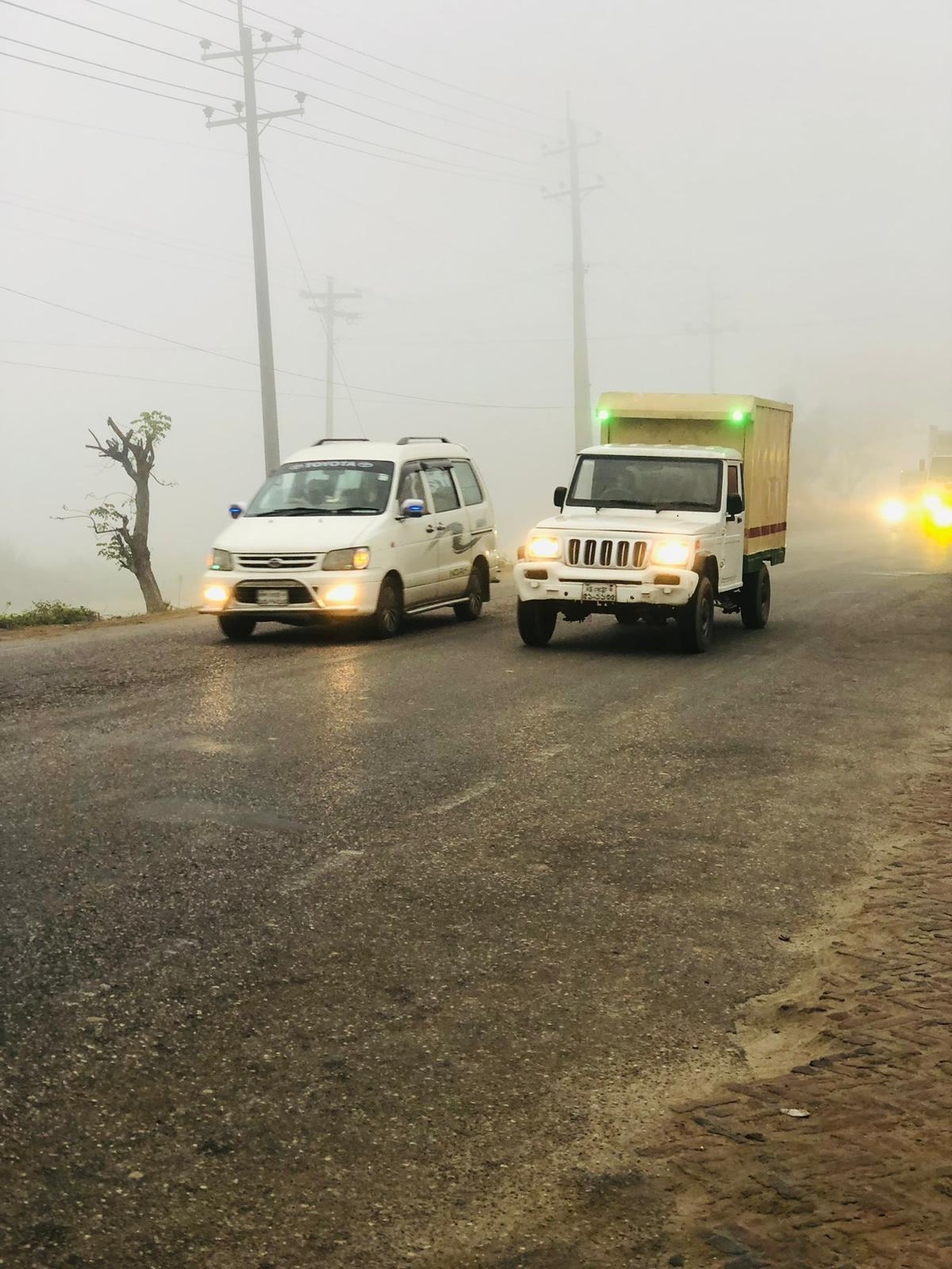Car: (194, 422, 501, 650)
Truck: (512, 377, 819, 674)
